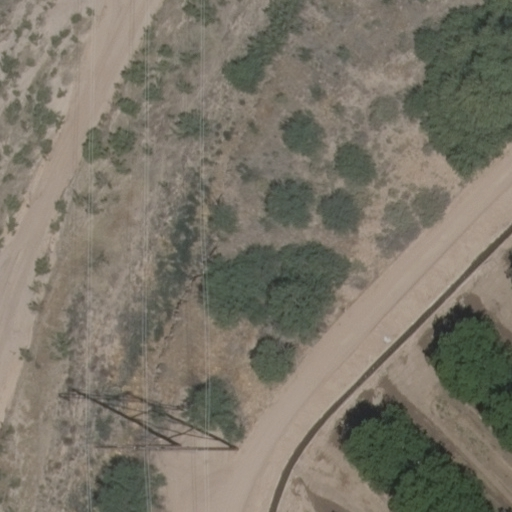DT: (79, 429, 241, 461)
